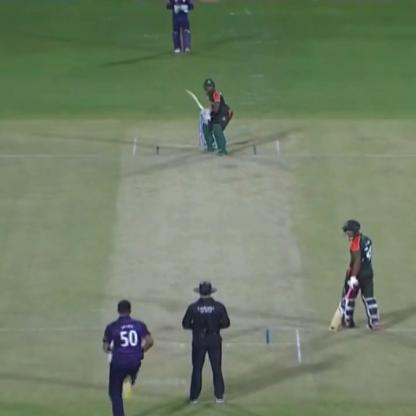pitch: (100, 130, 312, 360)
